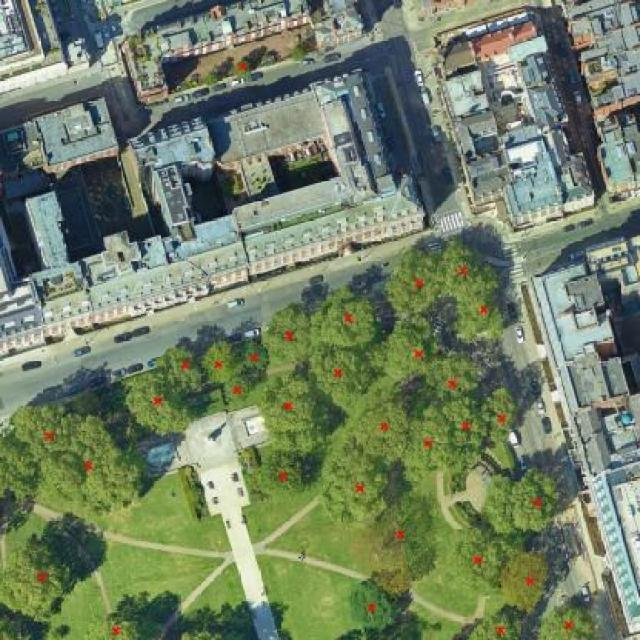tree: (36, 415, 142, 515), (317, 439, 388, 524), (2, 540, 69, 618), (9, 402, 83, 462), (448, 529, 519, 588), (312, 345, 372, 408), (380, 316, 440, 379), (258, 375, 320, 434), (437, 240, 500, 297), (390, 245, 439, 318), (315, 291, 377, 348), (125, 370, 179, 432), (358, 398, 413, 458), (451, 291, 506, 348), (403, 409, 454, 469), (253, 452, 309, 500), (442, 395, 489, 452), (265, 306, 313, 360), (516, 466, 555, 532), (0, 429, 37, 497), (505, 552, 548, 610), (354, 579, 398, 635), (426, 357, 480, 398), (159, 346, 205, 392), (81, 607, 143, 640), (486, 475, 520, 531), (540, 609, 597, 640), (484, 389, 516, 440), (199, 341, 236, 382), (467, 614, 524, 640), (176, 615, 233, 640), (390, 511, 430, 545), (372, 565, 413, 598), (237, 339, 271, 373), (223, 375, 251, 403)
